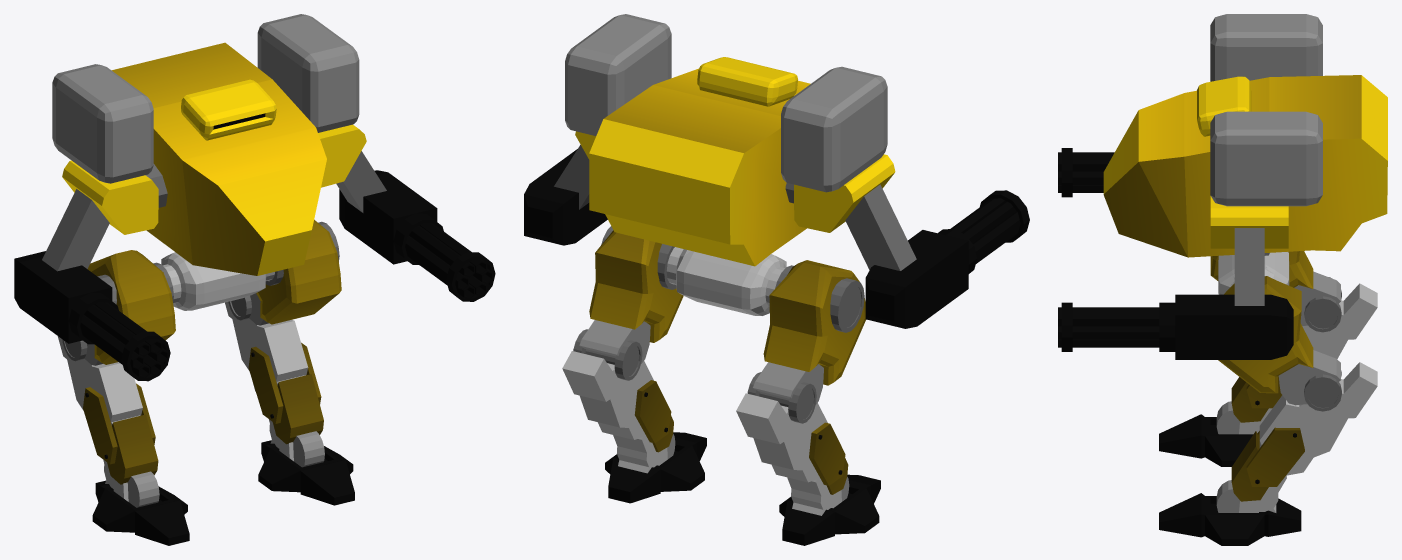
File: SK_Enemy_Turret1.fbx
3 views of the same model, side by side, from view 1: azimuth 30°, elevation 25°; view 2: azimuth 150°, elevation 25°; view 3: azimuth 270°, elevation 25° (orthographic). The views are drawn at different scales.
Parts seen in each view (by area): view 1: SK_Enemy_Turret; view 2: SK_Enemy_Turret; view 3: SK_Enemy_Turret.
Boxes of the visible parts, <box> form: SK_Enemy_Turret: <box>14,14,495,545</box>; SK_Enemy_Turret: <box>524,14,1029,545</box>; SK_Enemy_Turret: <box>1058,14,1387,545</box>.
Bounding box in the file's own units: 2.11 × 2.32 × 1.67.
Materials: 2 (2 with a texture image).
